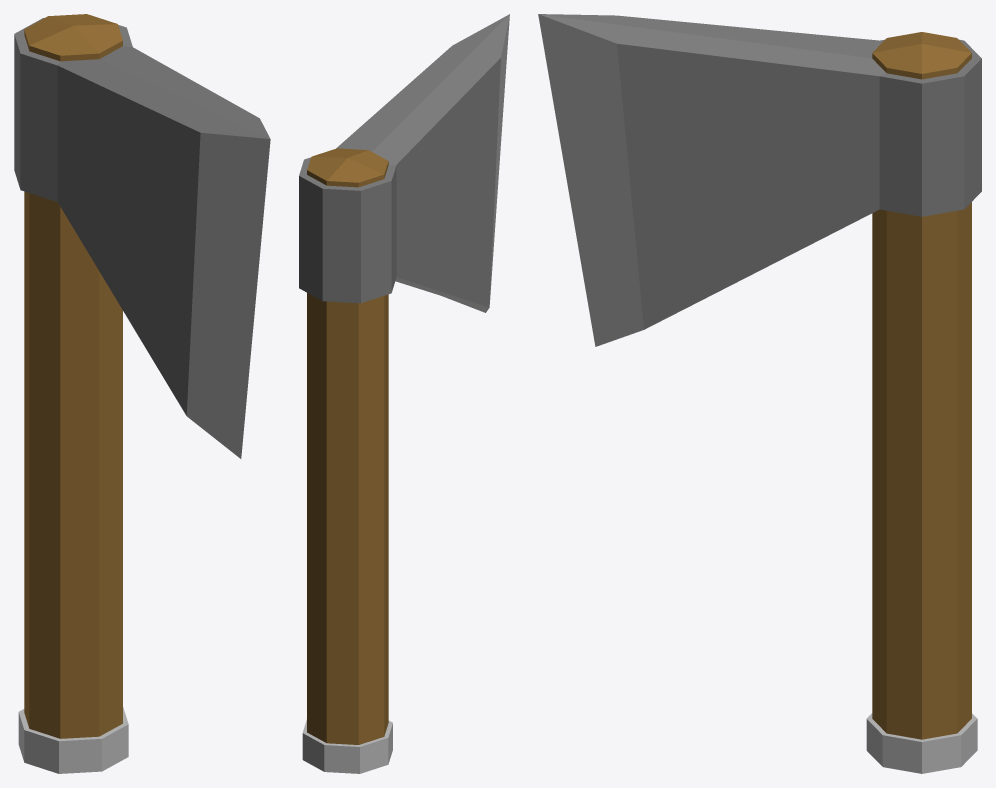
Rendered from Axe3.fbx.
The picture shows the model from 3 angles, left to right: view 1: azimuth 30°, elevation 25°; view 2: azimuth 150°, elevation 25°; view 3: azimuth 270°, elevation 25°; orthographic projection. The views are drawn at different scales.
Visible parts, largest first — view 1: Cube.000; view 2: Cube.000; view 3: Cube.000.
Boxes of the visible parts, left/top/right/bottom form: Cube.000: left=14, top=14, right=270, bottom=773; Cube.000: left=299, top=14, right=509, bottom=773; Cube.000: left=538, top=14, right=981, bottom=773.
Size of the model in its own units: 240 by 1659 by 890.
